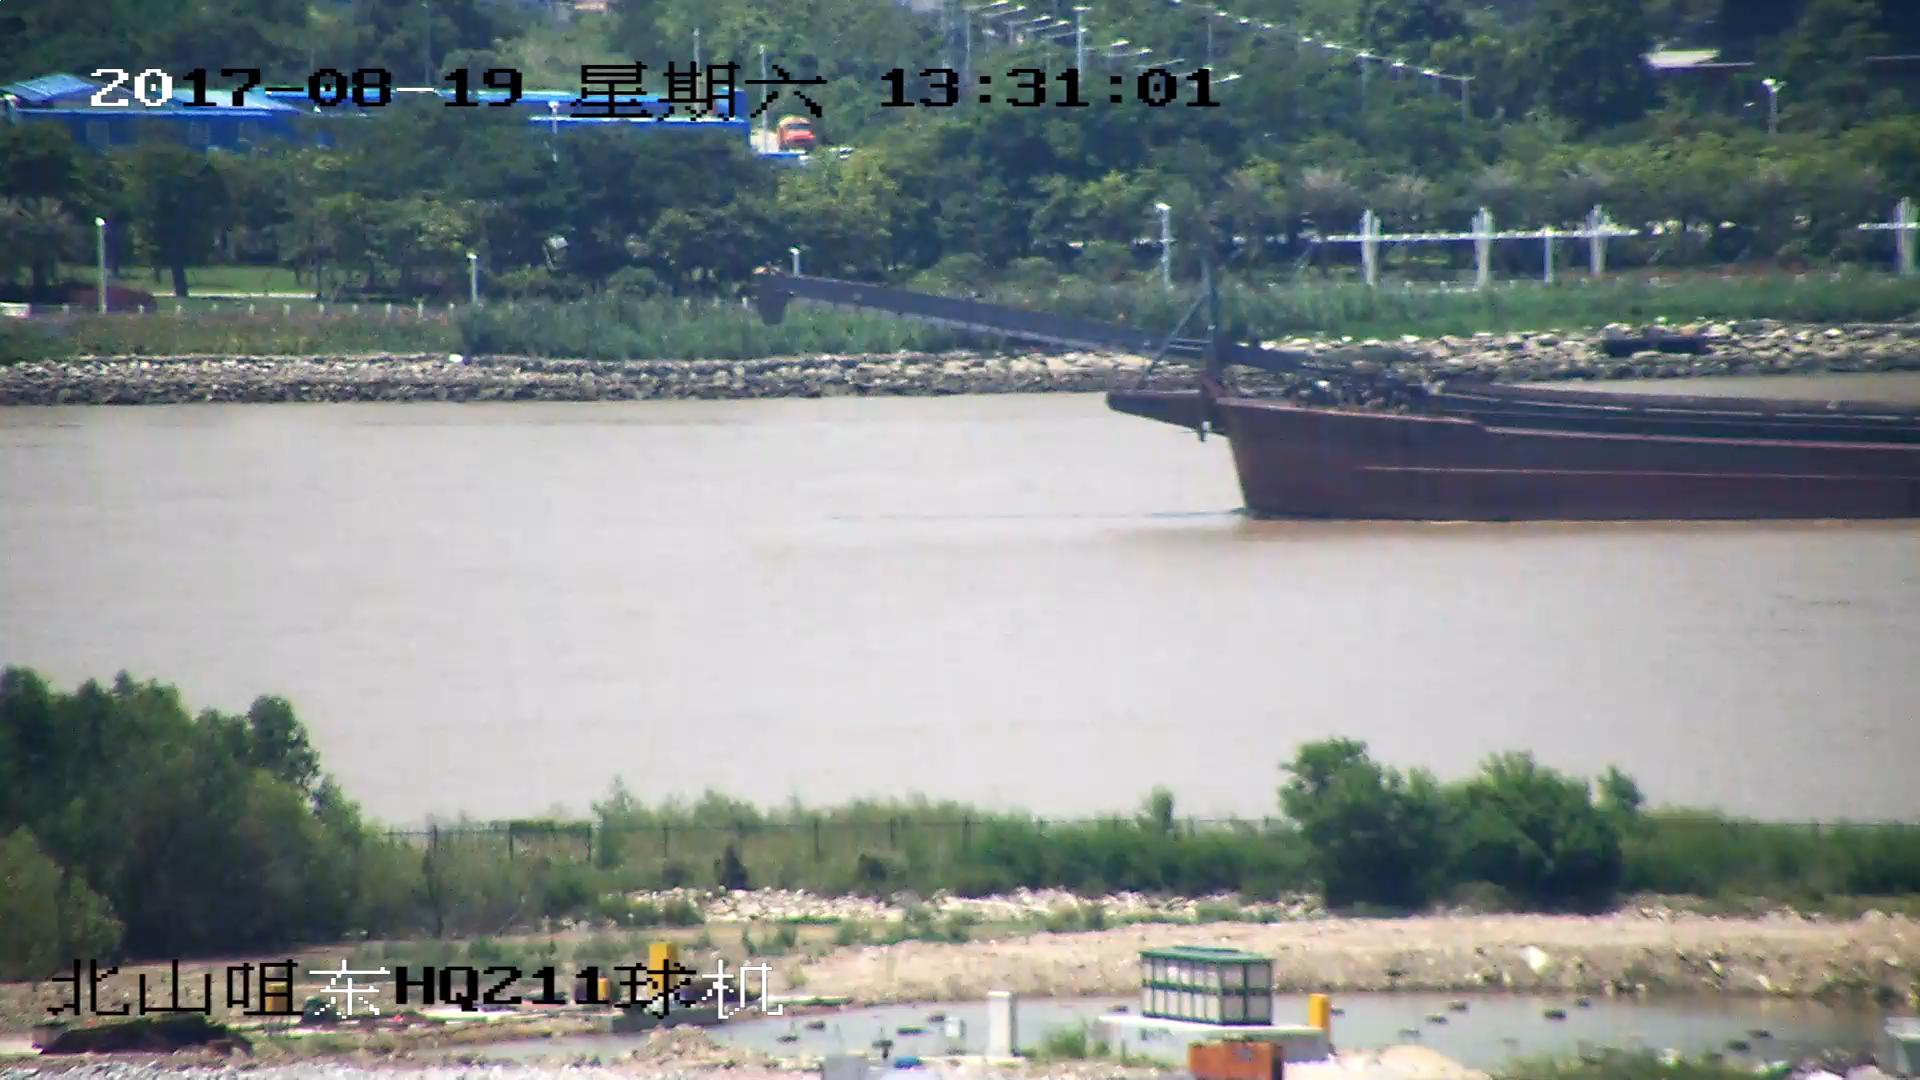bulk cargo carrier: (765, 262, 1920, 522)
